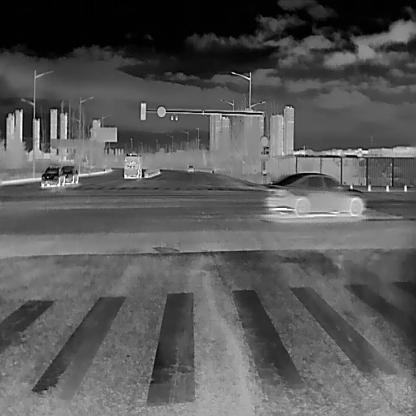car: (266, 171, 364, 217), (40, 165, 65, 186), (124, 153, 142, 179), (61, 165, 79, 184), (187, 164, 194, 172)
